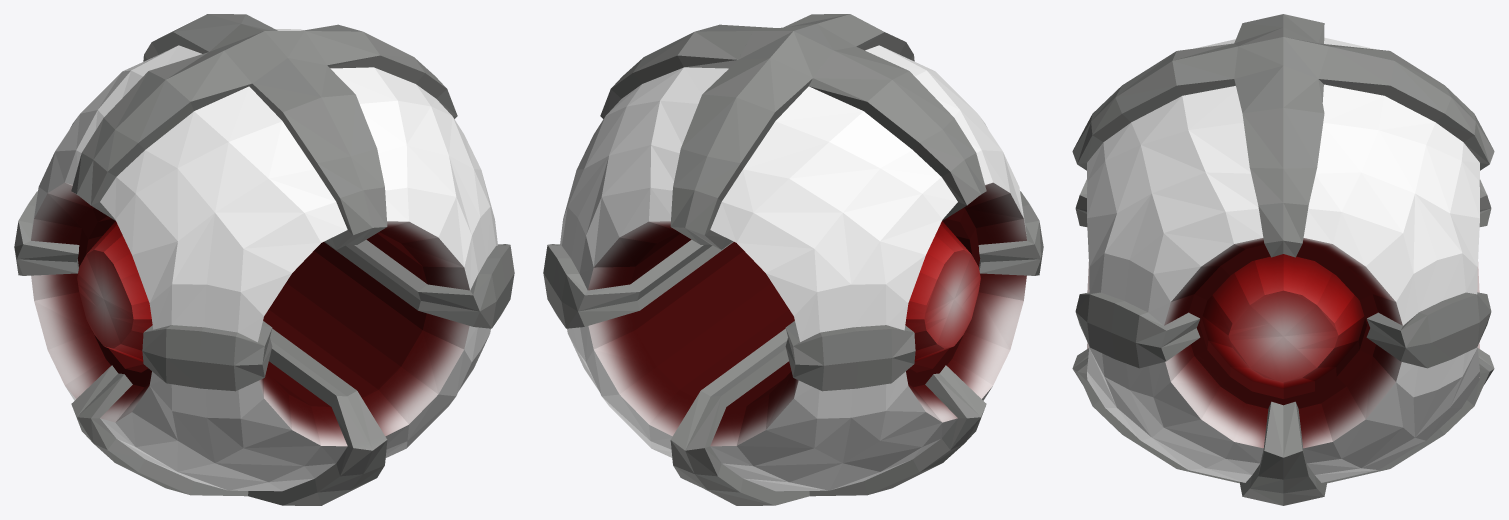
Rendered from orb-v2.fbx.
3 views of the same model, side by side, from view 1: azimuth 30°, elevation 25°; view 2: azimuth 150°, elevation 25°; view 3: azimuth 270°, elevation 25° (orthographic). The views are drawn at different scales.
Parts seen in each view (by area): view 1: Orb; view 2: Orb; view 3: Orb.
Boxes of the visible parts, left/top/right/bottom form: Orb: left=14, top=14, right=514, bottom=505; Orb: left=543, top=14, right=1043, bottom=505; Orb: left=1072, top=14, right=1494, bottom=505.
Bounding box in the file's own units: 88.03 × 103 × 88.03.
